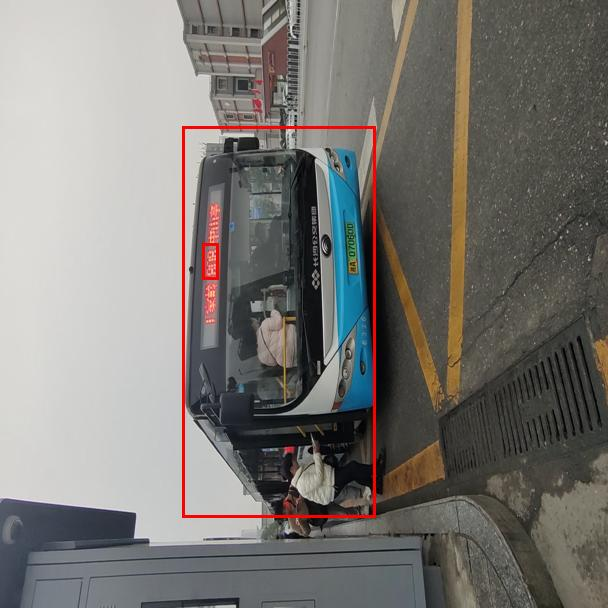bus: (182, 126, 375, 517)
screen: (202, 243, 218, 279)
